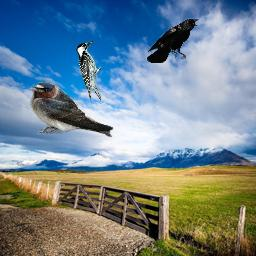Crow: (147, 18, 199, 63)
Swallow: (28, 81, 114, 138)
Woodpecker: (76, 40, 101, 101)
